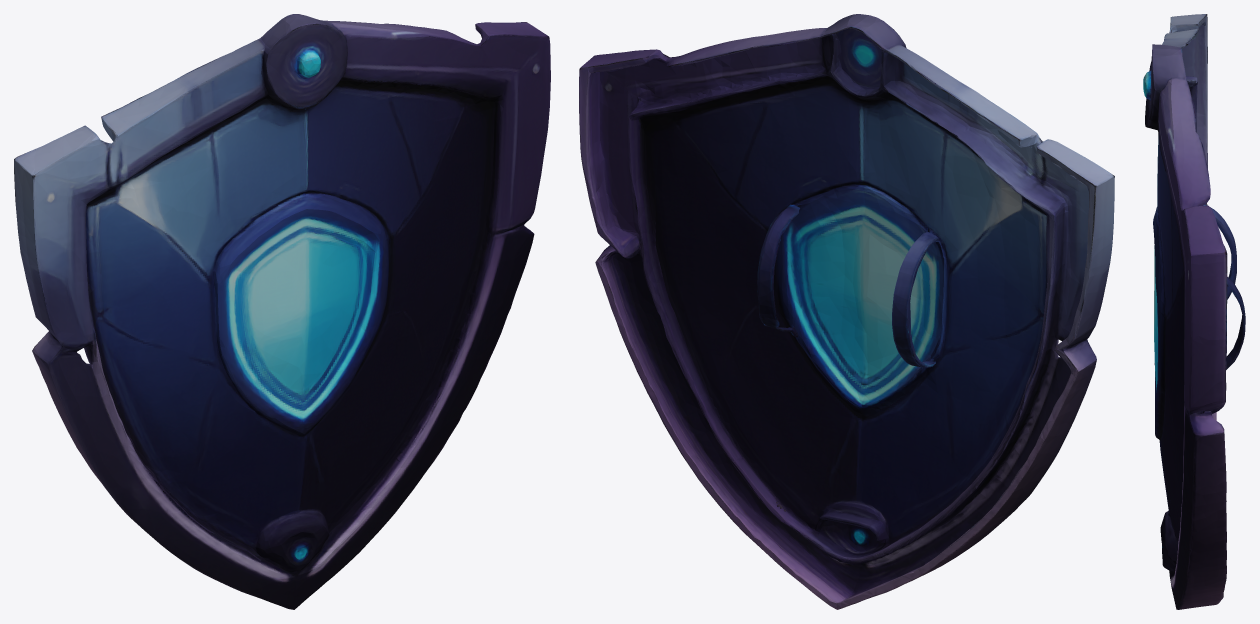
The model's file is silver_shield.glb.
3 renders of one model, left to right at view 1: azimuth 30°, elevation 25°; view 2: azimuth 150°, elevation 25°; view 3: azimuth 270°, elevation 25°, orthographic. The views are drawn at different scales.
Parts seen in each view (by area): view 1: world; view 2: world; view 3: world.
Boxes of the visible parts, <box> form: world: <box>14,14,550,609</box>; world: <box>579,14,1114,609</box>; world: <box>1143,14,1245,609</box>.
Size of the model in its own units: 0.9288 by 0.9983 by 0.1655.
Materials: 1 (1 with a texture image).
